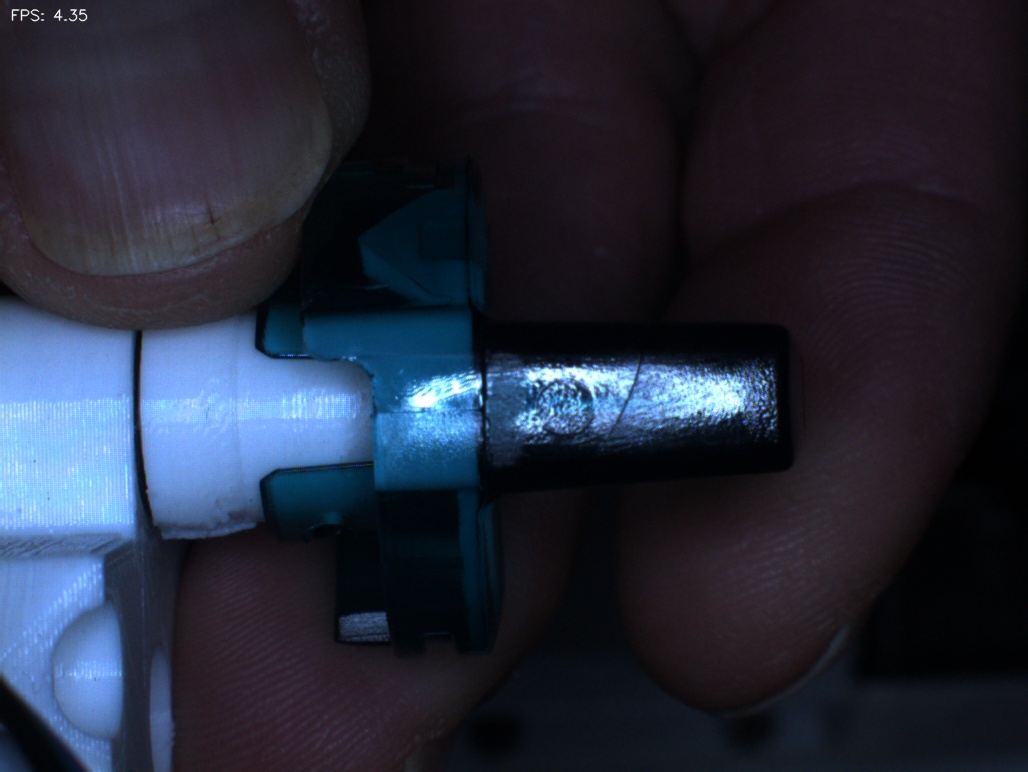DentOk: (338, 202, 410, 298)
